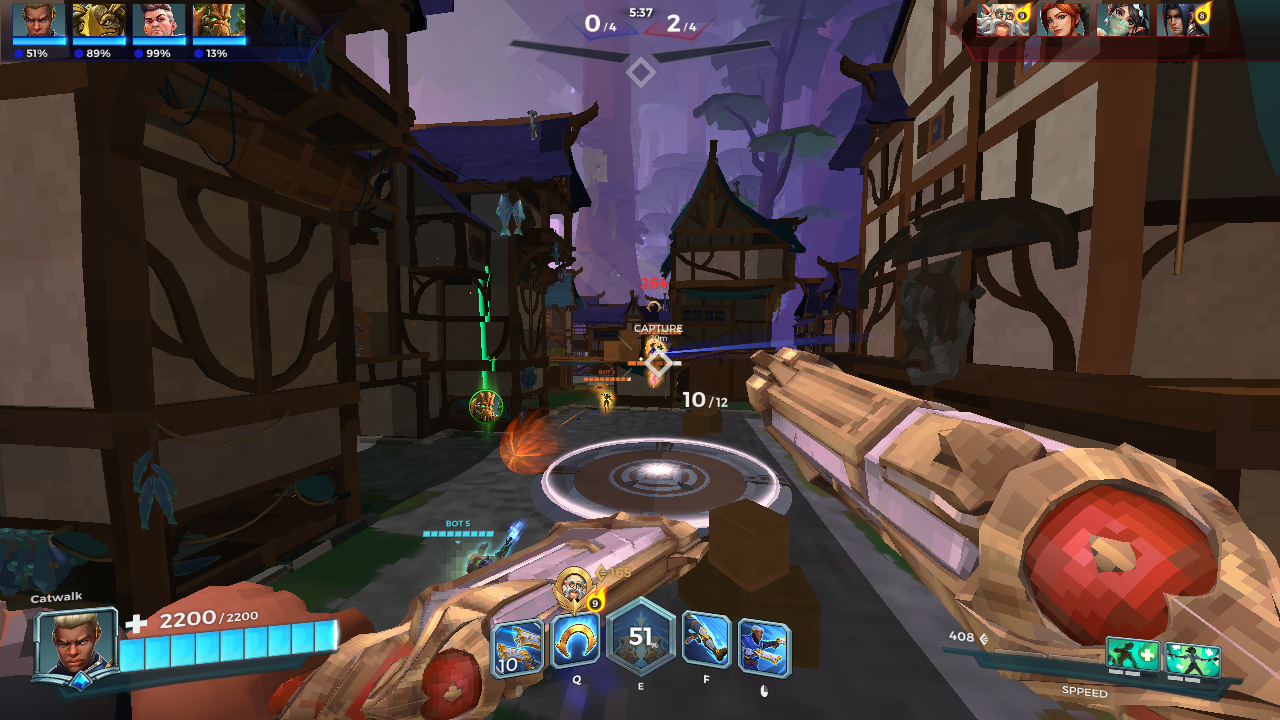model: (600, 390, 616, 413), (646, 339, 656, 355)
